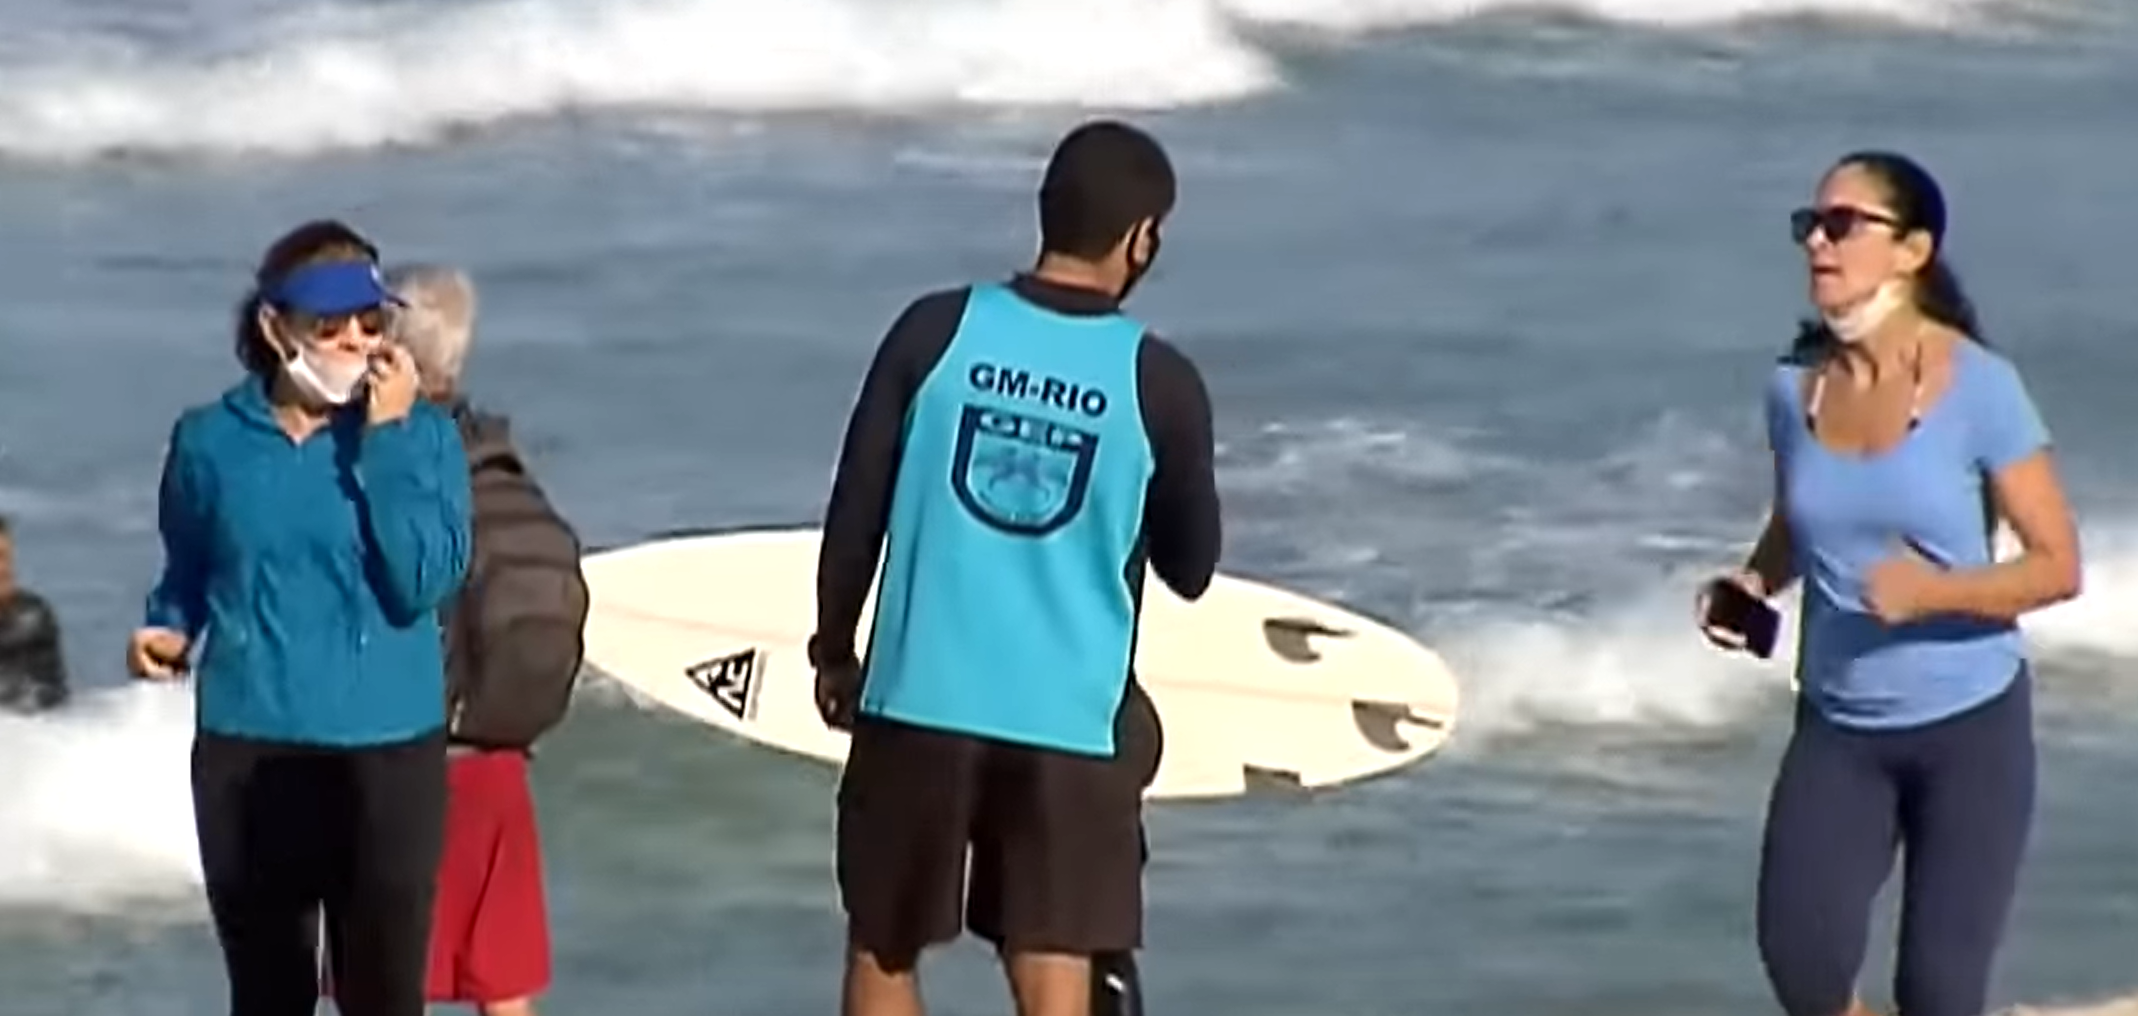mask_weared_incorrect: (1787, 188, 1942, 352), (251, 289, 402, 410)
